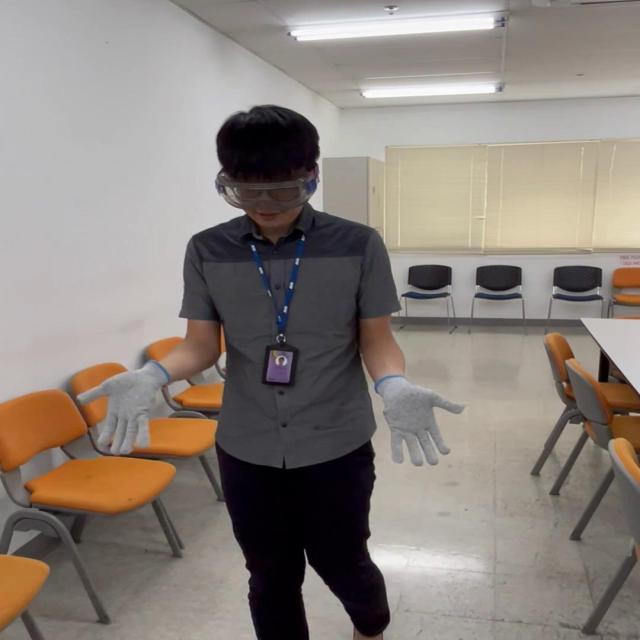gloved_hand: (376, 381, 464, 466), (89, 368, 175, 450)
